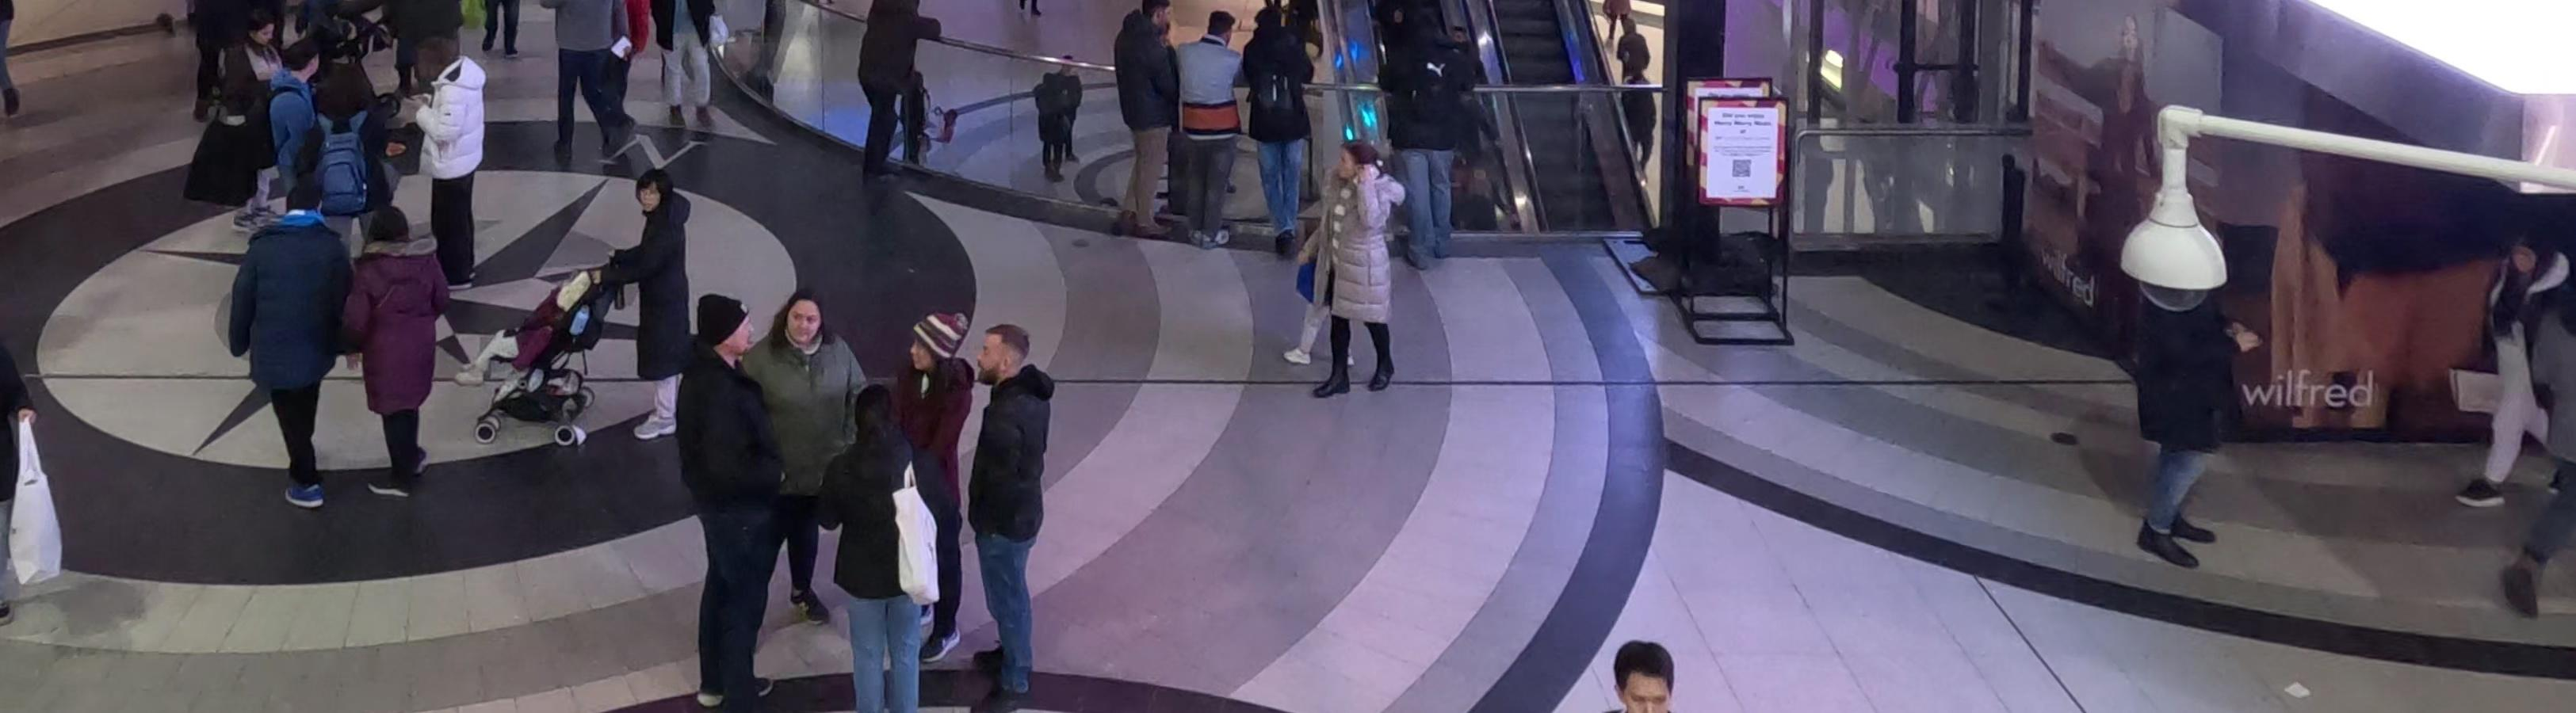person: (652, 287, 786, 702), (2129, 234, 2260, 597), (823, 392, 945, 713), (957, 315, 1055, 713), (233, 181, 348, 512), (749, 289, 858, 630), (336, 201, 445, 484), (606, 155, 705, 429), (1320, 143, 1418, 417), (902, 313, 979, 486)
